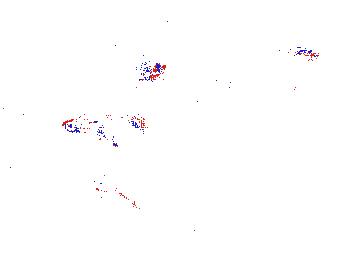X-ray fish: (78, 141, 141, 178), (122, 9, 160, 51)
red belly glassfish: (278, 43, 320, 67)
redtail glassfish: (215, 71, 297, 108), (62, 103, 149, 136), (291, 69, 345, 99), (134, 50, 166, 93)
